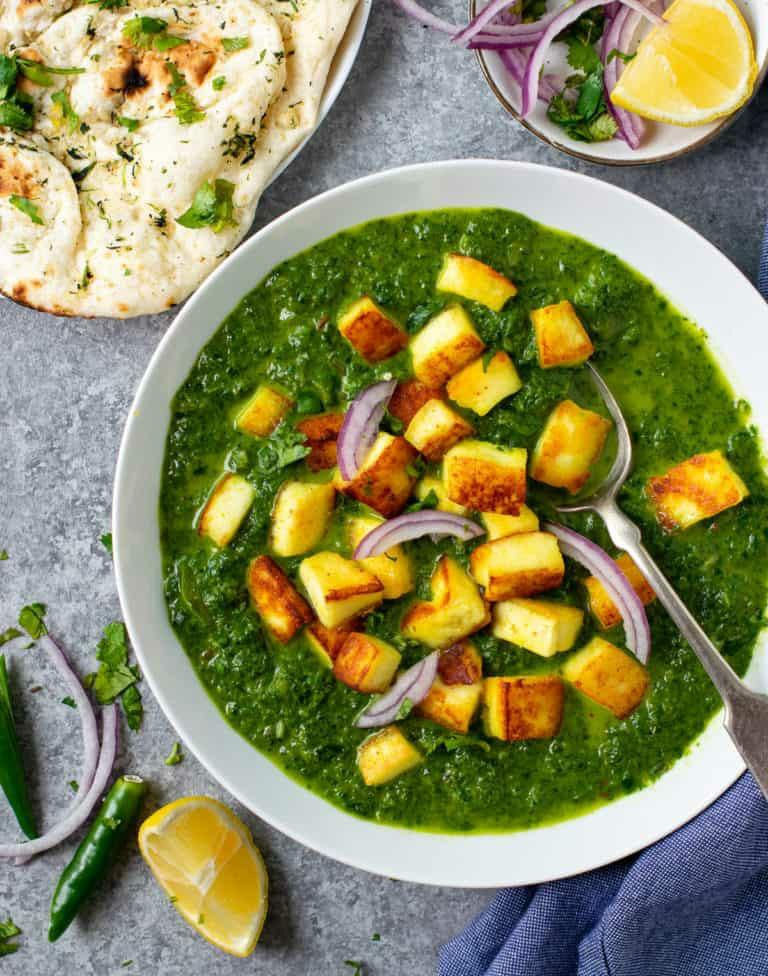PalakPaneer: (158, 205, 763, 832)
